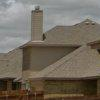Chimney: (25, 1, 48, 51)
